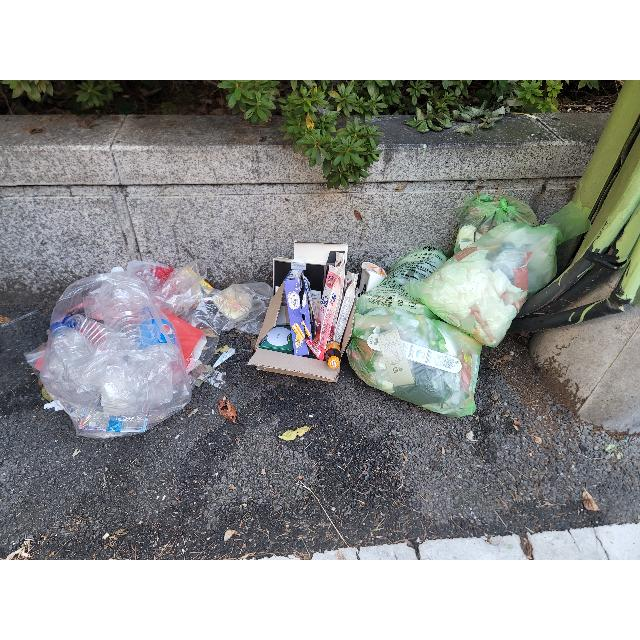general_trashbag: (405, 202, 590, 346), (346, 299, 481, 418), (356, 246, 446, 319), (454, 182, 539, 254)
other_trashbag: (40, 271, 191, 439), (180, 281, 272, 335)
